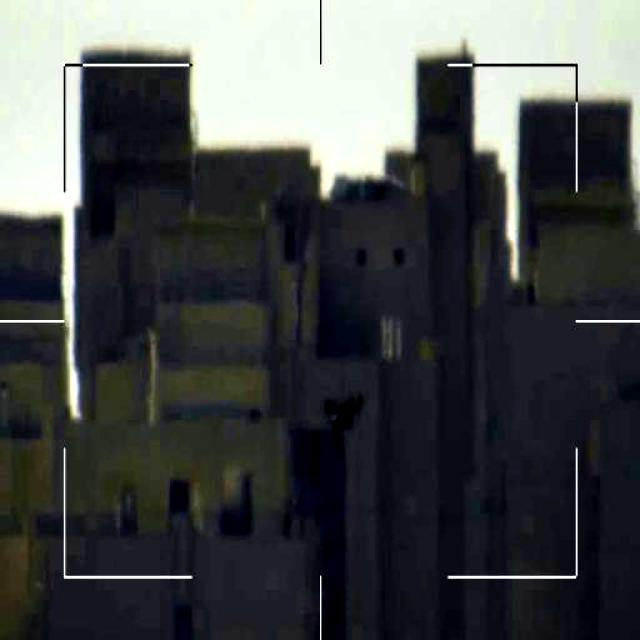bird: (320, 382, 369, 452)
